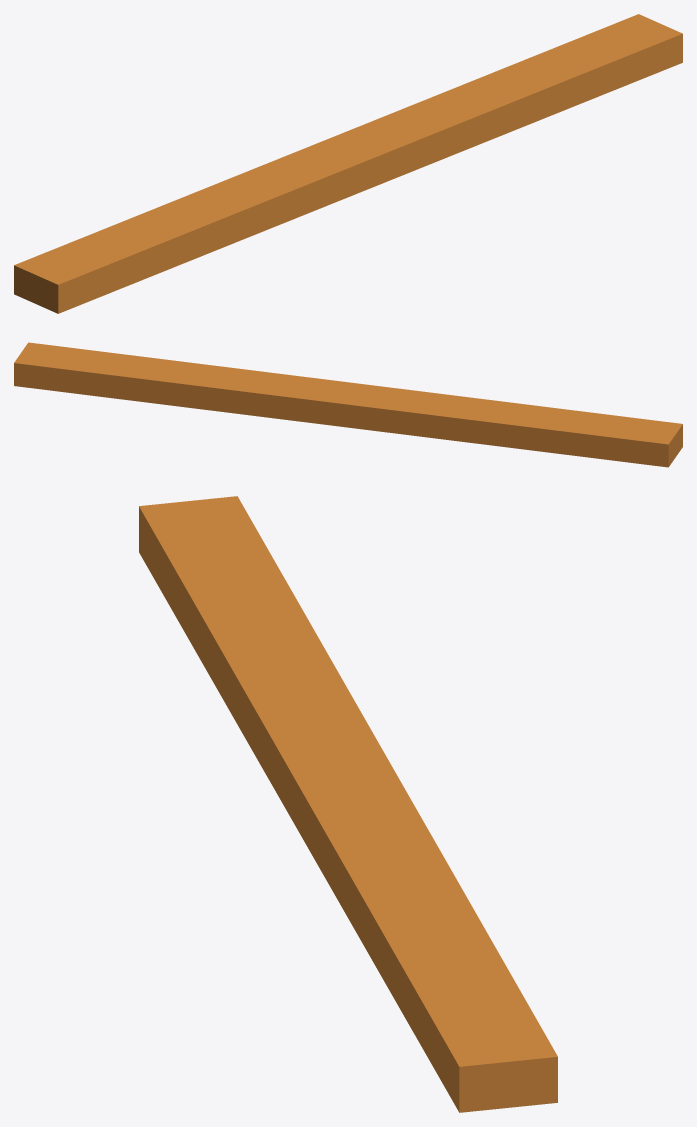
3 renders of one model, top to bottom at view 1: azimuth 30°, elevation 25°; view 2: azimuth 150°, elevation 25°; view 3: azimuth 270°, elevation 25°, orthographic. The views are drawn at different scales.
Visible parts, largest first — view 1: GAP-11-SILL; view 2: GAP-11-SILL; view 3: GAP-11-SILL.
Part boxes in pixels (x1,y1,x2,y2): GAP-11-SILL: (14,14,682,313); GAP-11-SILL: (14,342,682,467); GAP-11-SILL: (139,496,557,1112).
Size of the model in its own units: 1.2 by 0.045 by 0.3716.
